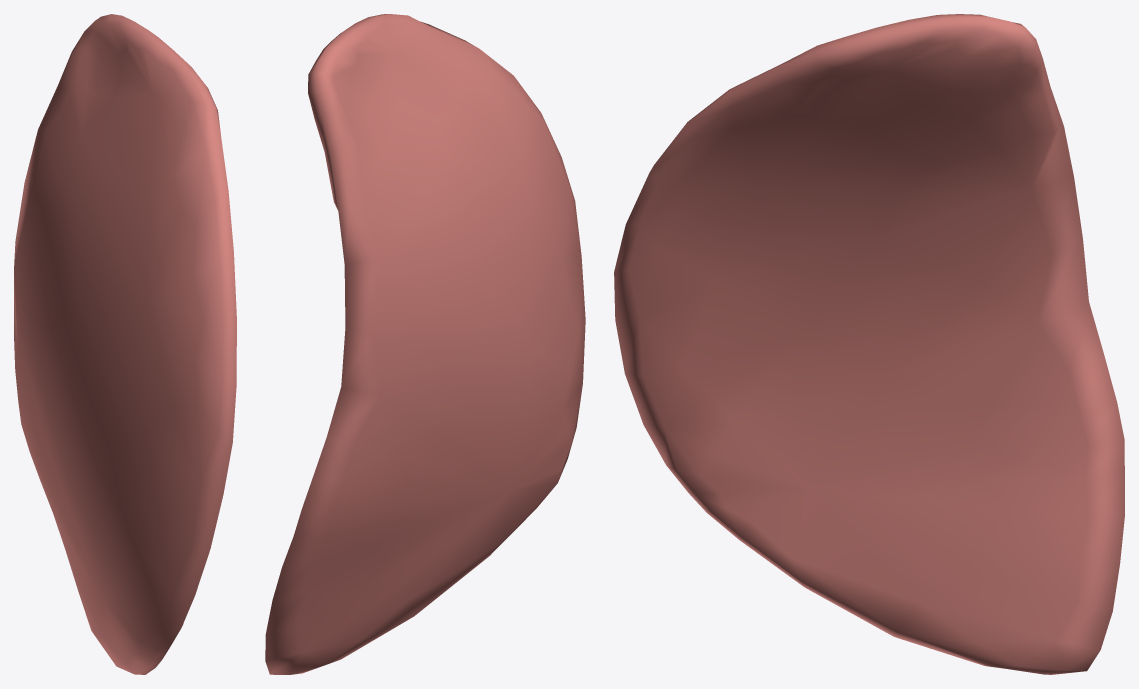
3 renders of one model, left to right at view 1: azimuth 30°, elevation 25°; view 2: azimuth 150°, elevation 25°; view 3: azimuth 270°, elevation 25°, orthographic. The views are drawn at different scales.
Parts seen in each view (by area): view 1: ZA_d1f9b3631989abac; view 2: ZA_d1f9b3631989abac; view 3: ZA_d1f9b3631989abac.
Boxes of the visible parts, x1,y1,x2,y2 form: ZA_d1f9b3631989abac: (14,14,236,674); ZA_d1f9b3631989abac: (265,14,585,674); ZA_d1f9b3631989abac: (614,14,1124,674).
Bounding box in the file's own units: 0.00262 × 0.0115 × 0.0081.
